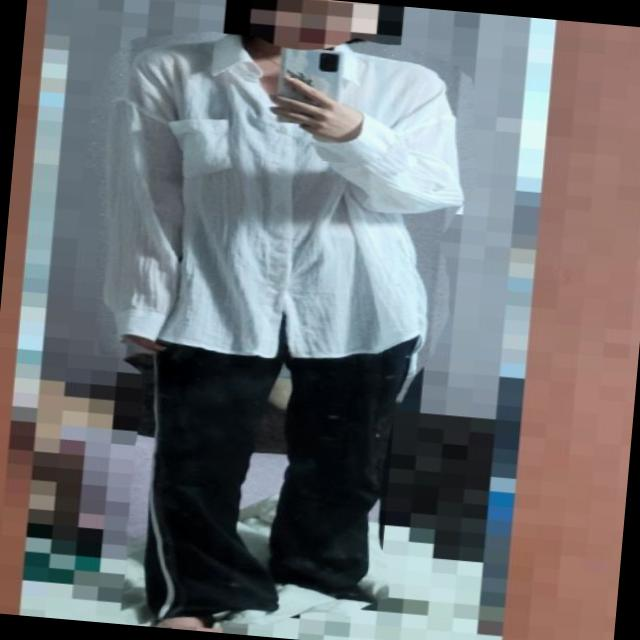shirt: (90, 20, 474, 372)
trainingpants: (122, 310, 426, 640)
